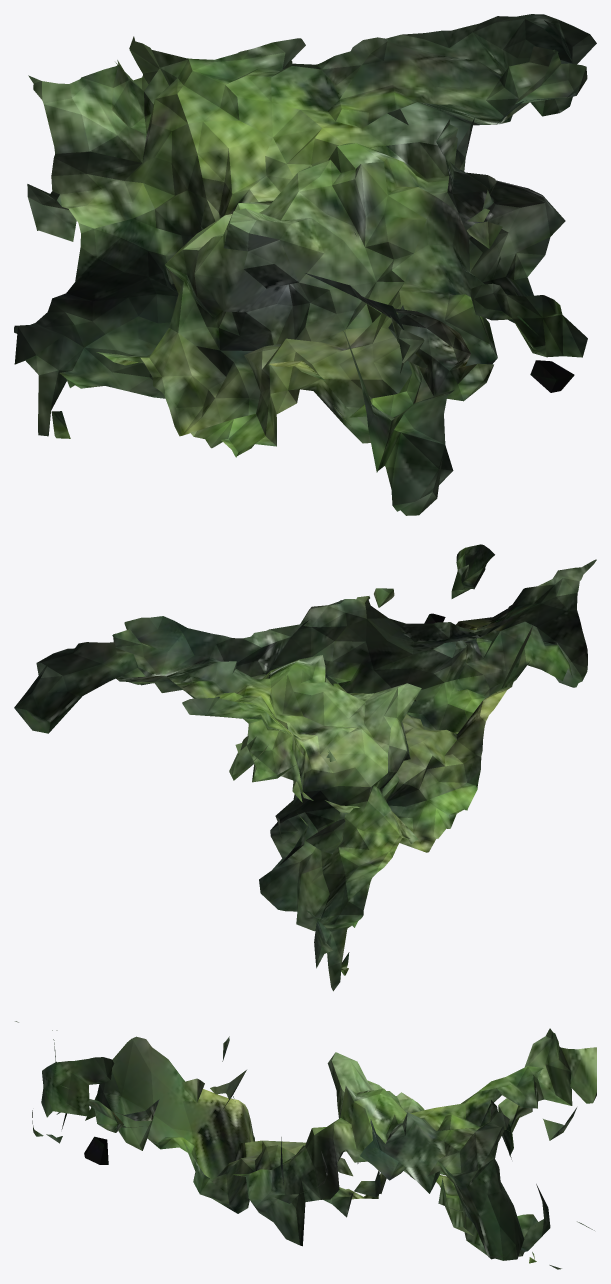
The picture shows the model from 3 angles, top to bottom: view 1: azimuth 30°, elevation 25°; view 2: azimuth 150°, elevation 25°; view 3: azimuth 270°, elevation 25°; orthographic projection. The views are drawn at different scales.
Size of the model in its own units: 17.08 by 11.44 by 24.32.
Materials: 2 (2 with a texture image).
